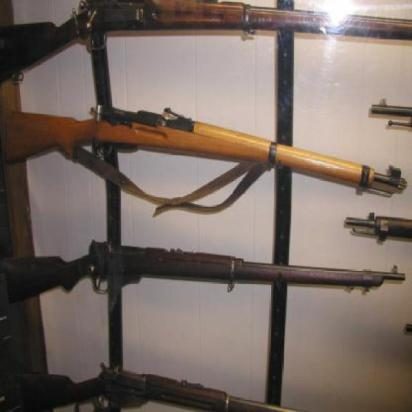Gun: (4, 91, 404, 225), (3, 0, 410, 87), (0, 247, 412, 300), (0, 378, 331, 412)
